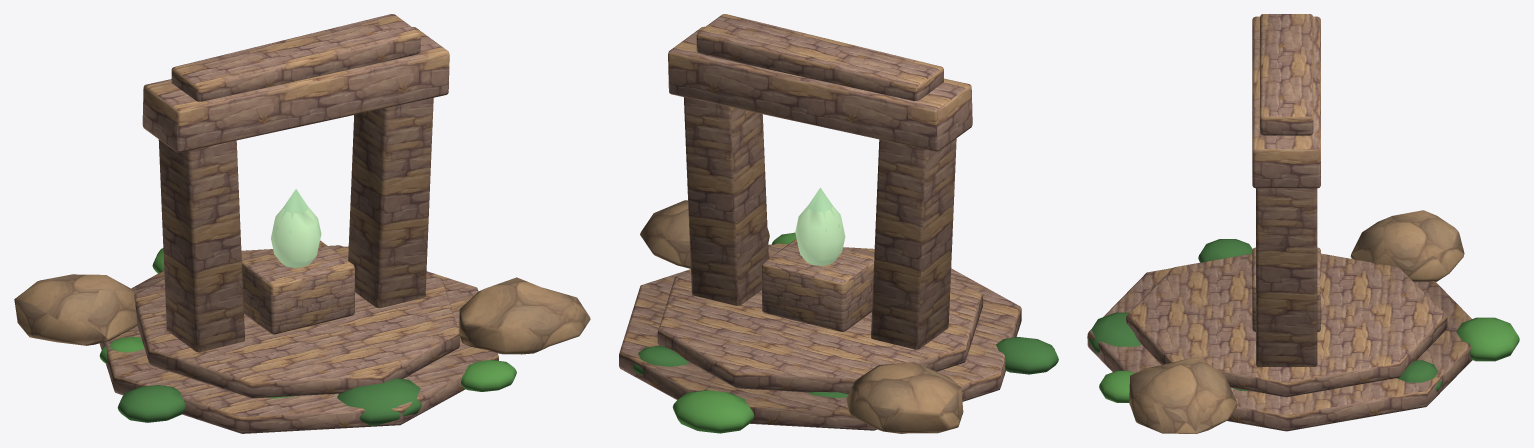
File: forest_shrine.gltf
3 views of the same model, side by side, from view 1: azimuth 30°, elevation 25°; view 2: azimuth 150°, elevation 25°; view 3: azimuth 270°, elevation 25° (orthographic). The views are drawn at different scales.
Parts seen in each view (by area): view 1: forest_shrine; view 2: forest_shrine; view 3: forest_shrine.
Boxes of the visible parts, left/top/right/bottom form: forest_shrine: left=14, top=14, right=590, bottom=433; forest_shrine: left=619, top=14, right=1058, bottom=433; forest_shrine: left=1087, top=14, right=1519, bottom=433.
Bounding box in the file's own units: 6.2 × 4.18 × 5.65.
4 materials, 4 textured.
